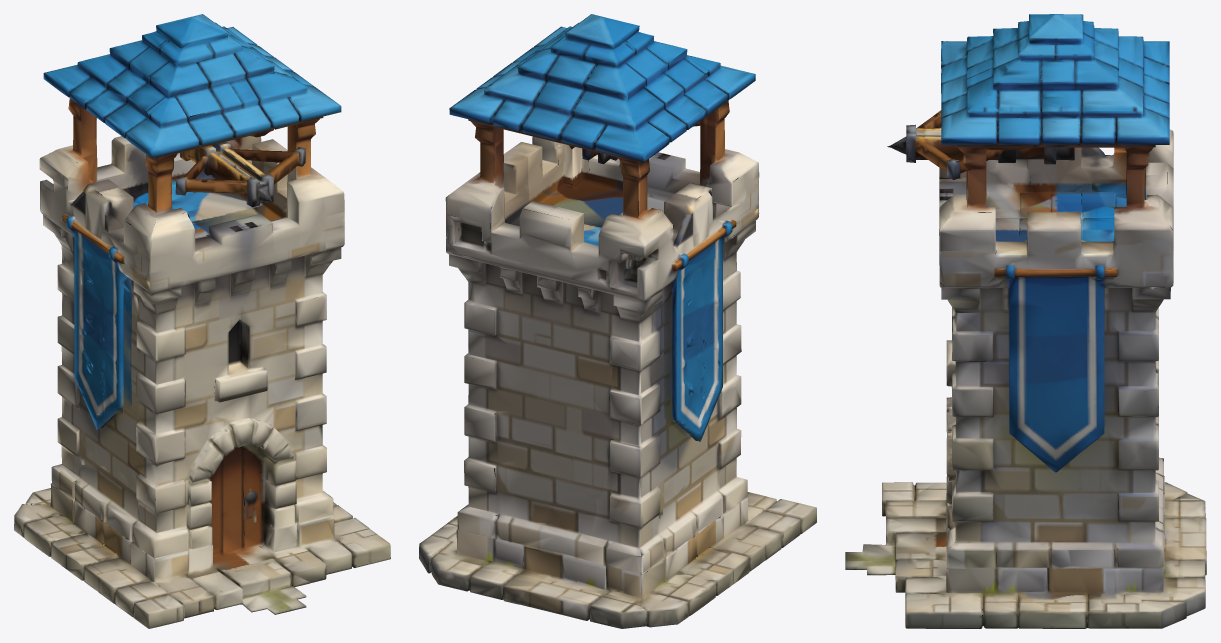
Rendered from TowerBasic.fbx.
3 views of the same model, side by side, from view 1: azimuth 30°, elevation 25°; view 2: azimuth 150°, elevation 25°; view 3: azimuth 270°, elevation 25° (orthographic). The views are drawn at different scales.
Parts seen in each view (by area): view 1: Body, Head; view 2: Body; view 3: Body, Head.
Part boxes in pixels (bbox=[...]): Body: bbox=[14, 14, 390, 628]; Head: bbox=[175, 141, 305, 207]; Body: bbox=[419, 14, 816, 628]; Body: bbox=[845, 14, 1206, 628]; Head: bbox=[887, 110, 1074, 179].
Size of the model in its own units: 5.63 by 11 by 6.56.
1 material, 1 textured.
